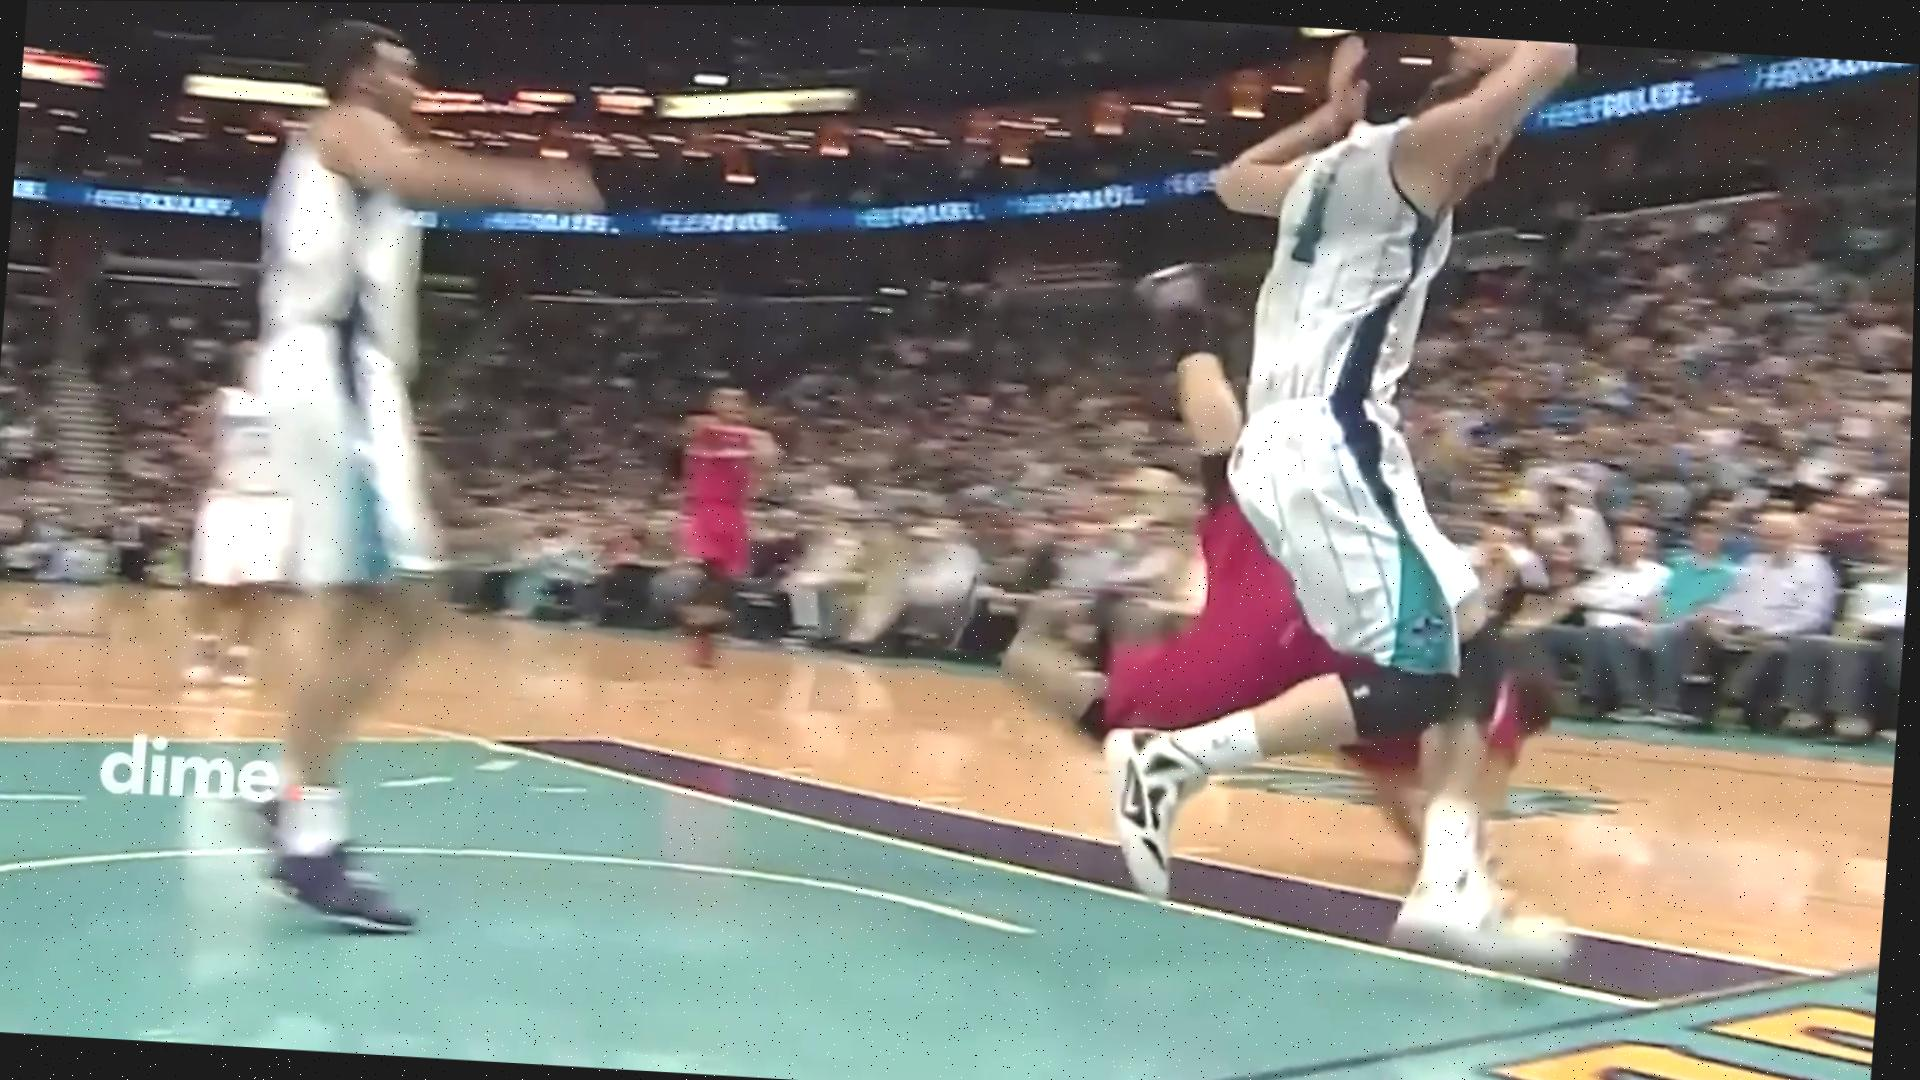foul: (1017, 62, 1635, 977)
